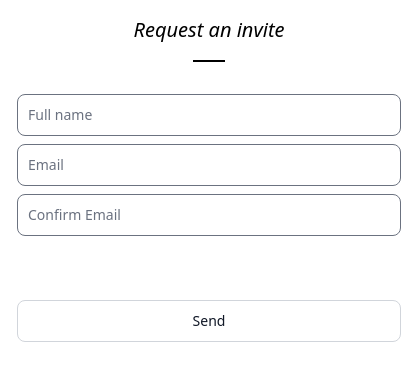
Test case: InviteForm › submit data and get server error
Type "Yao" into the field with test id "invite-form-input--fullName".
click(209, 115); type("Yao")  # box [17,94,401,136]
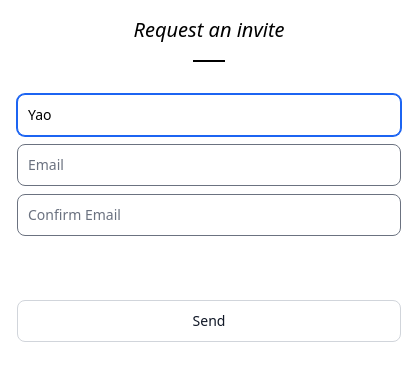
Type "codewen@gmail.com" into the field with test id "invite-form-input--customerEmail".
click(209, 165); type("codewen@gmail.com")  # box [17,144,401,186]
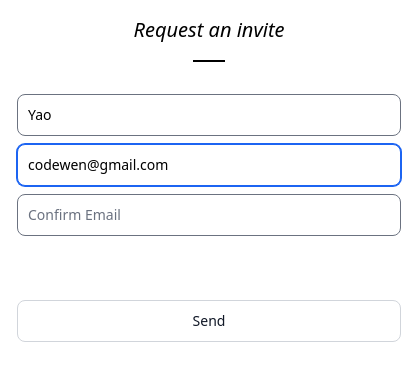
Type "codewen@gmail.com" into the field with test id "invite-form-input--emailConfirm".
click(209, 215); type("codewen@gmail.com")  # box [17,194,401,236]
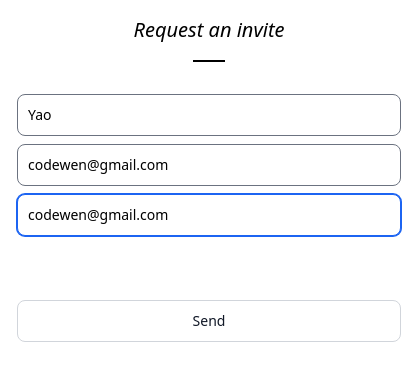
Click the button with test id "invite-form-input--submit".
click(209, 321)  # box [17,300,401,342]
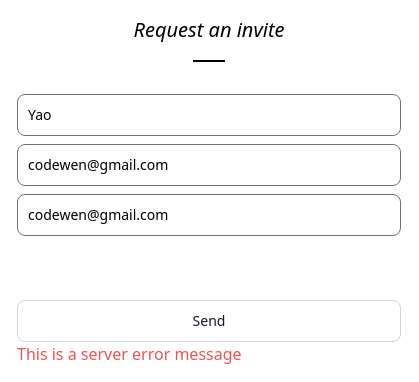
Expected: the text "This is a server error message" is shown, [17,343,242,365]
